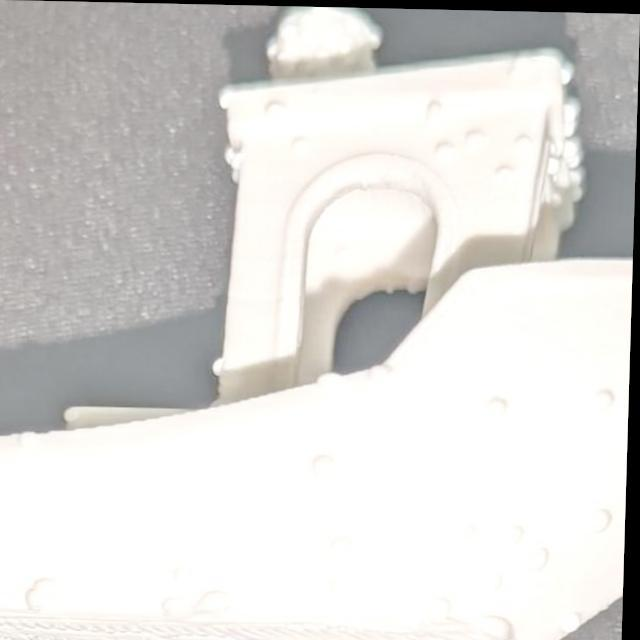zits: (474, 600, 524, 640), (154, 589, 206, 624), (580, 494, 618, 540), (424, 587, 466, 624), (520, 539, 559, 572), (322, 564, 360, 596), (556, 130, 586, 170), (312, 441, 346, 475), (552, 94, 582, 132), (328, 529, 364, 560), (27, 572, 70, 597), (484, 388, 518, 418), (590, 378, 624, 408), (489, 153, 520, 185), (207, 582, 240, 612), (460, 512, 489, 542), (502, 516, 533, 544), (20, 591, 57, 614), (460, 118, 490, 146), (168, 560, 200, 586), (418, 95, 454, 118), (503, 129, 536, 154), (483, 570, 513, 594), (316, 364, 348, 386), (366, 360, 398, 382), (285, 128, 314, 151), (558, 61, 586, 82), (562, 608, 587, 630), (207, 357, 233, 378), (262, 98, 290, 116), (230, 544, 252, 562), (436, 136, 456, 154)
